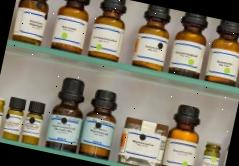glass: (0, 62, 236, 166), (6, 0, 239, 88)
